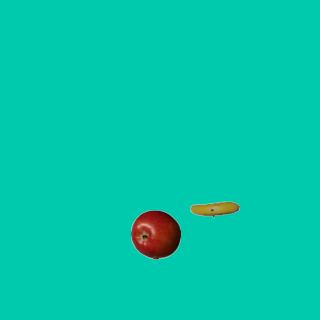Apple Braeburn: (130, 209, 180, 259)
Banana: (189, 184, 239, 234)
